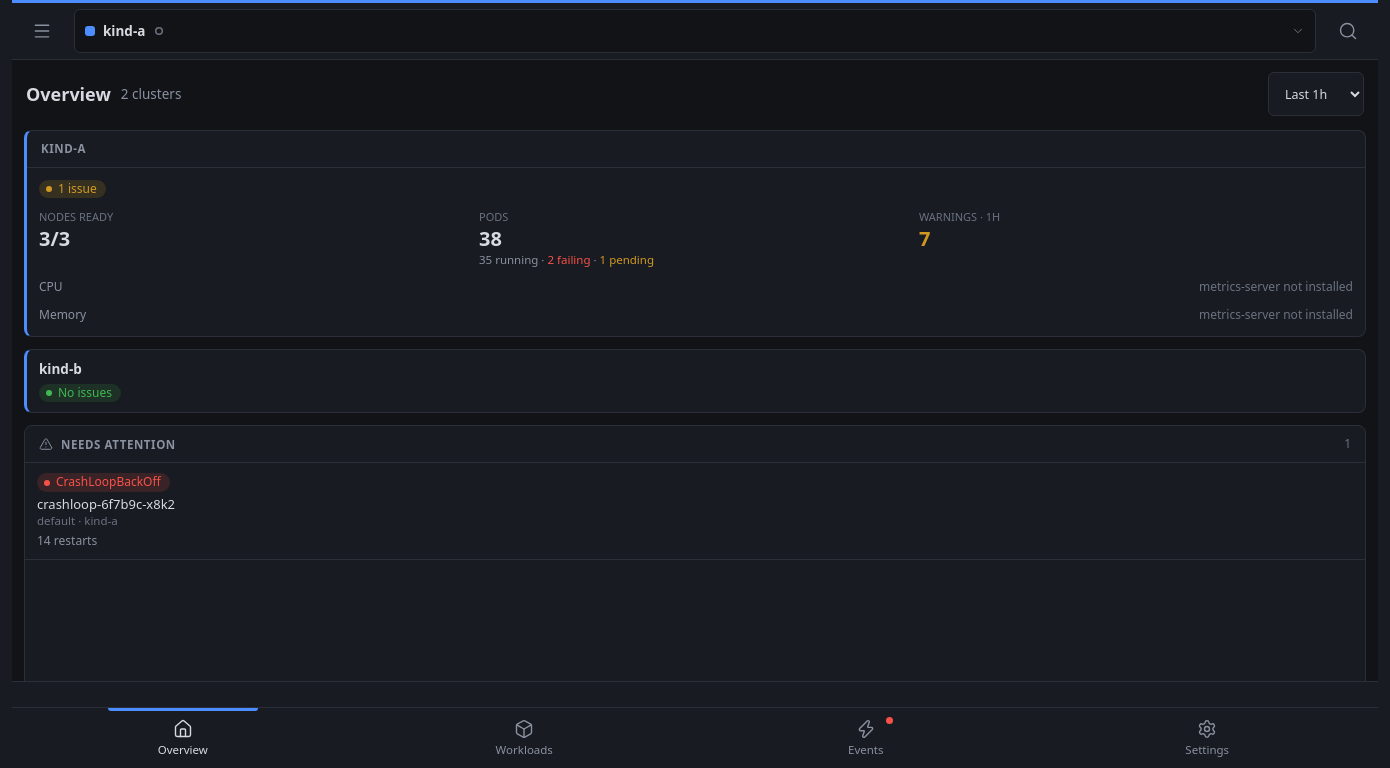
mobile overview › tapping a compact card makes it the full card
Click the button with test id "m-cluster-mini-kind-b".
click(60, 369)  # box [24,349,1366,413]
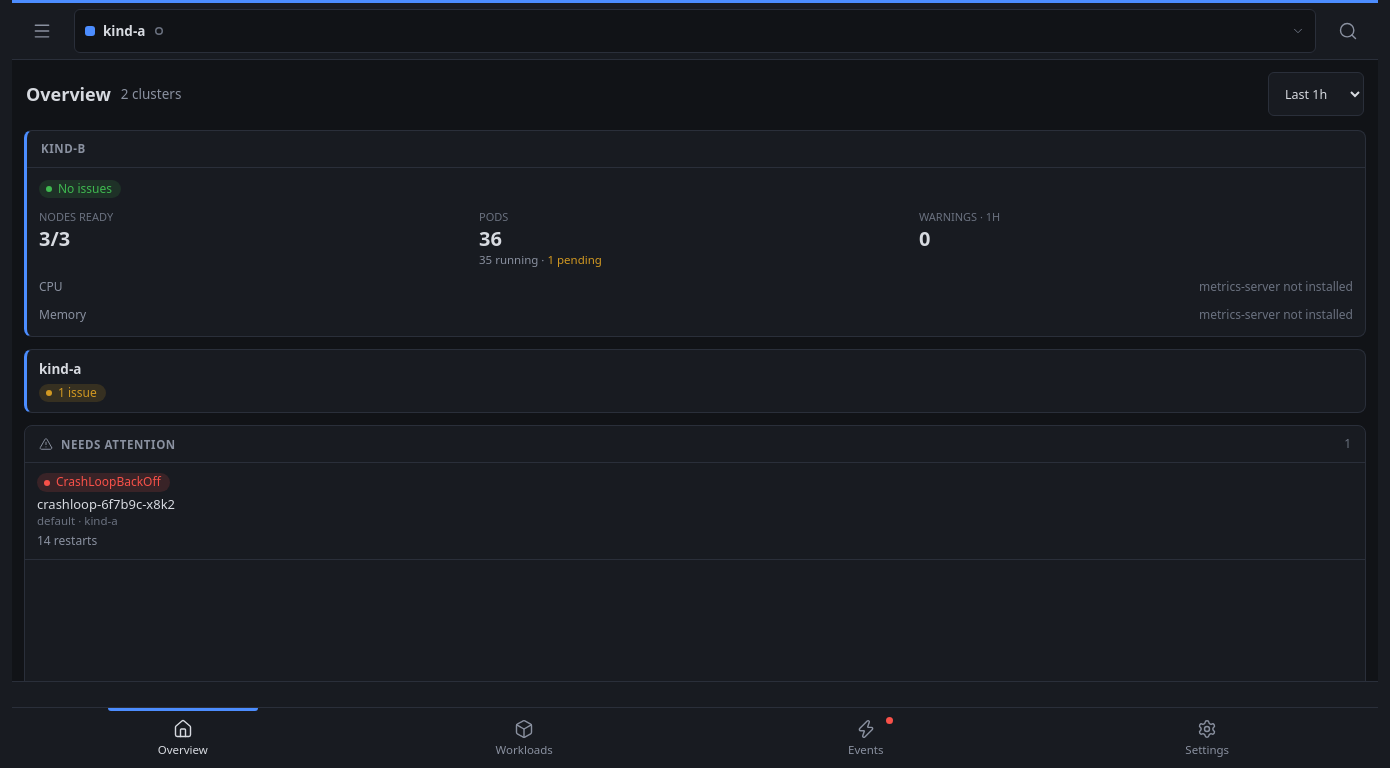
Expected: the element with test id "overview-cluster-kind-b" is shown, [24,130,1366,337]
